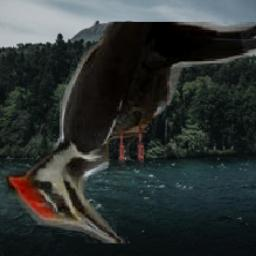Woodpecker: (0, 22, 256, 243)
